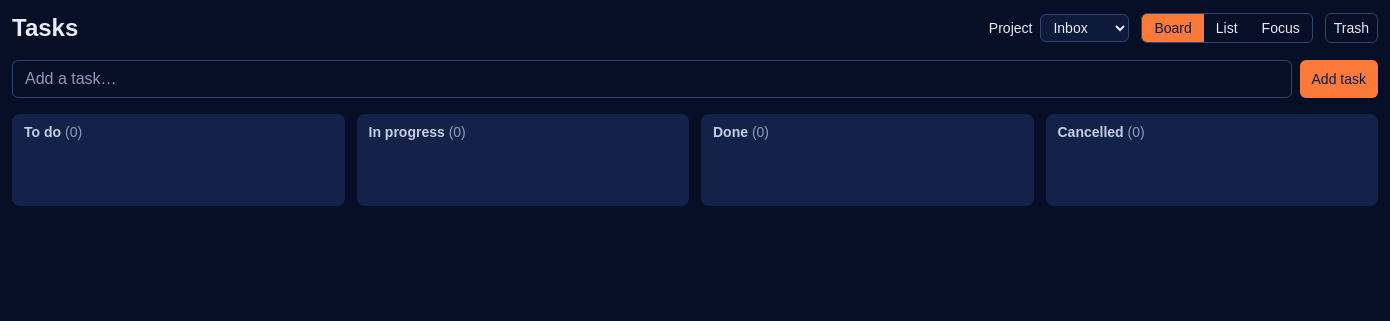
Test: creating › creates inside the selected project
Select "Website" in the dropdown labelled "Project" at (1085, 28), box x1=1040 y1=14 x2=1129 y2=42
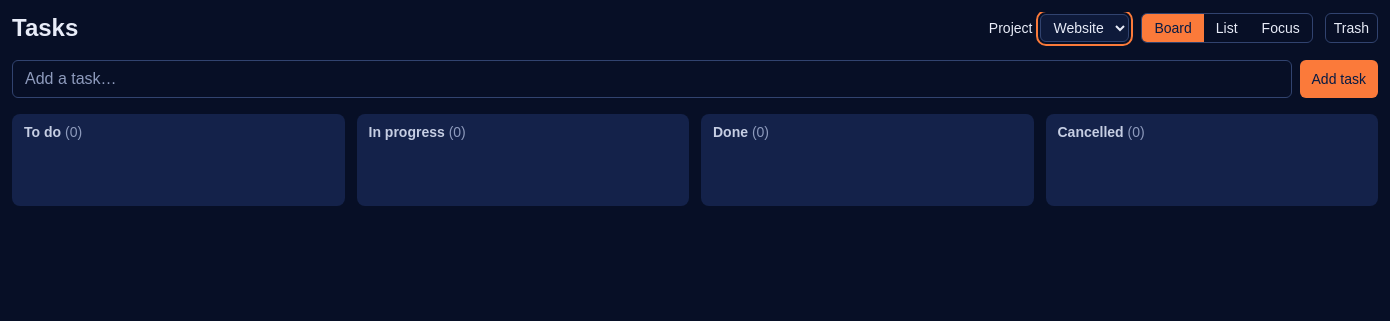
Type "In project" into the field named "New task title" at (652, 79), box x1=12 y1=60 x2=1292 y2=98
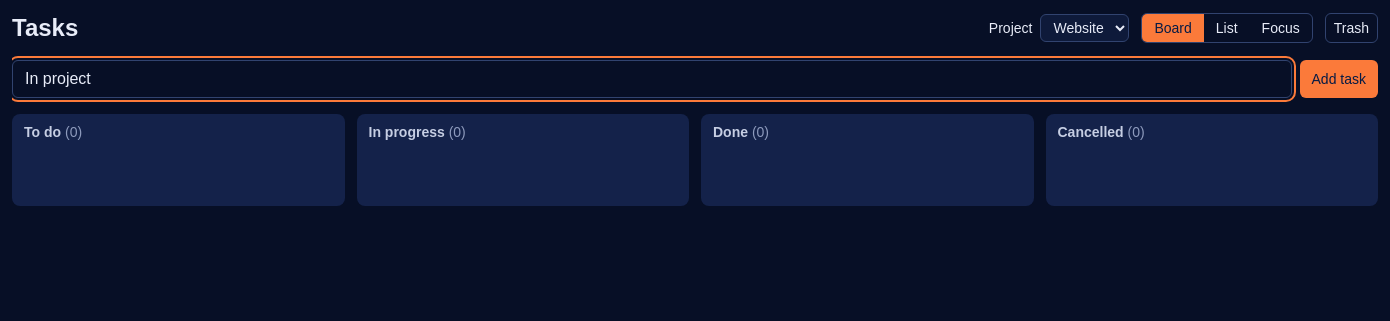
Click the button "Add task" at (1339, 79), box x1=1300 y1=60 x2=1378 y2=98
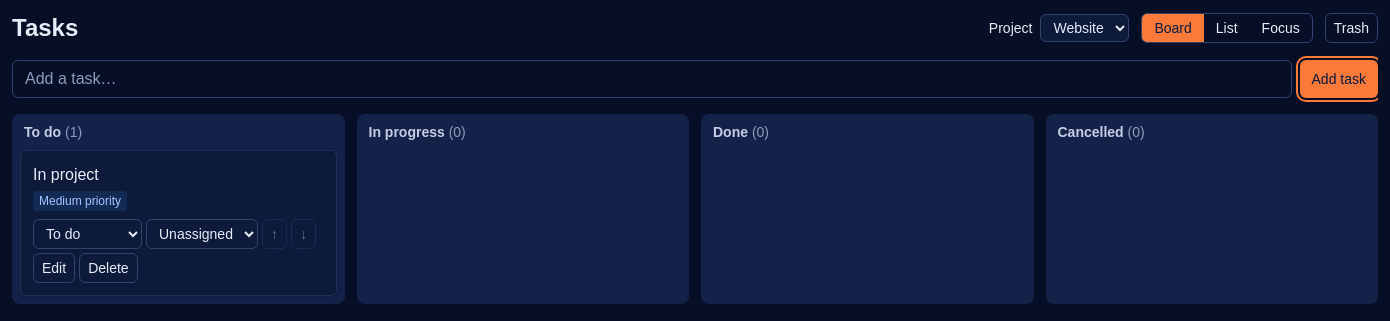
Now the heading "In project" is shown, box x1=33 y1=166 x2=99 y2=183
